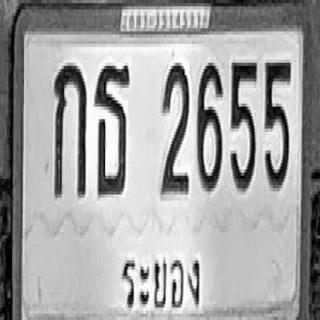A01: (54, 63, 86, 198)
A24: (94, 63, 129, 195)
N02: (160, 61, 189, 196)
N05: (264, 60, 291, 188), (230, 60, 256, 191)
N06: (197, 61, 222, 190)
P53: (112, 238, 208, 320)
